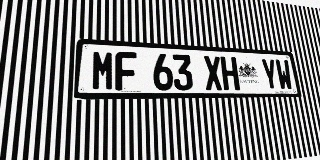3: (172, 54, 193, 90)
6: (152, 53, 174, 90)
F: (115, 51, 137, 90)
H: (220, 56, 240, 90)
M: (91, 50, 114, 91)
W: (275, 59, 293, 90)
X: (203, 56, 223, 90)
Y: (260, 58, 279, 90)
